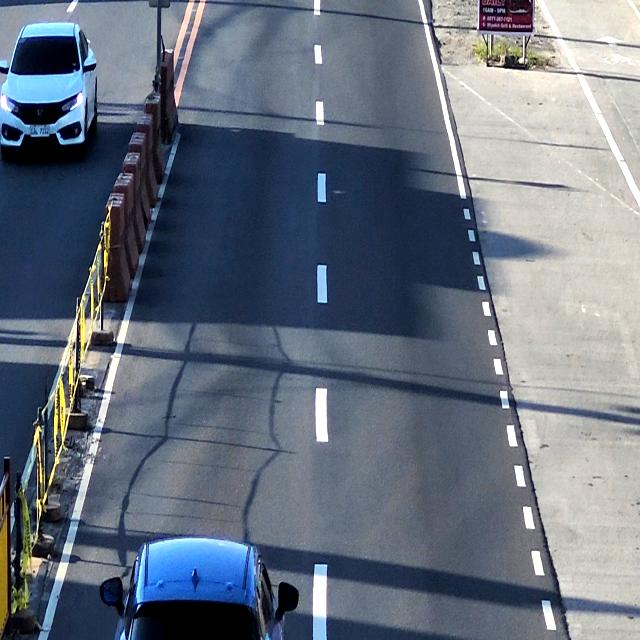Car: (119, 540, 284, 640)
